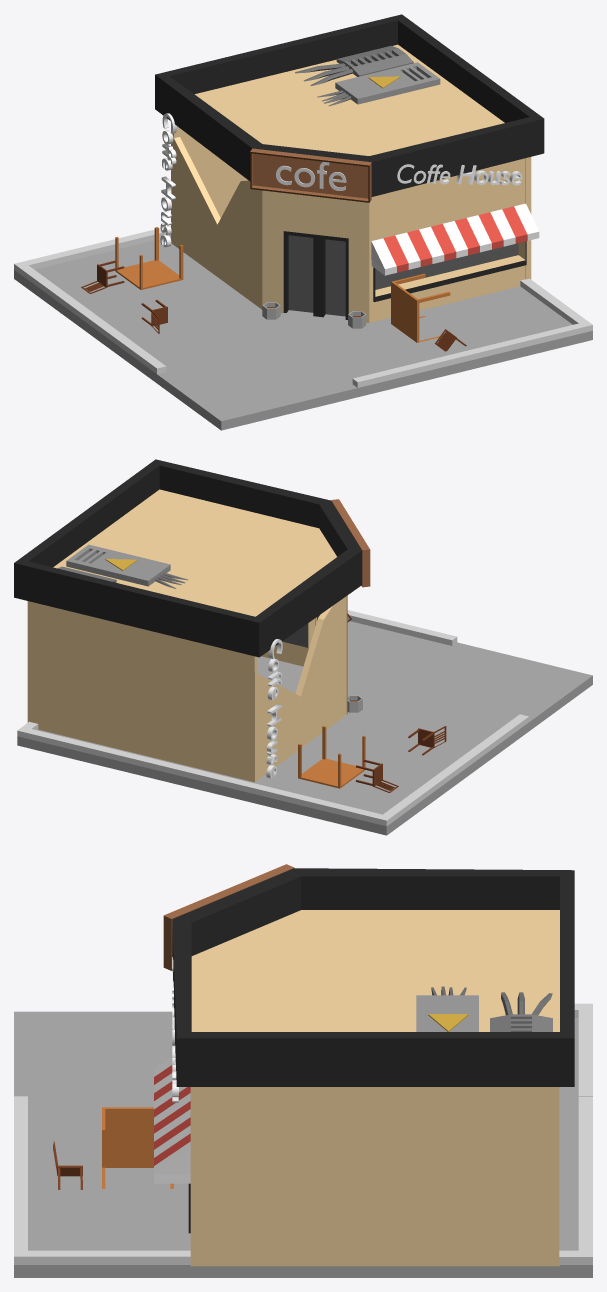
The picture shows the model from 3 angles, top to bottom: view 1: azimuth 30°, elevation 25°; view 2: azimuth 150°, elevation 25°; view 3: azimuth 270°, elevation 25°; orthographic projection. The views are drawn at different scales.
Parts seen in each view (by area): view 1: Cube, Plane.007, Plane, Plane.001, Cube.035, Cube.008, Plane.004, Plane.003, Plane.006, Cube.007, Text.001, Text.002 (+2 smaller); view 2: Cube, Plane.007, Plane.004, Plane, Cube.008, Plane.003, Text.001, Cube.035; view 3: Cube, Plane.005, Plane.007, Plane.001, Plane.006, Cube.008, Plane.004, Cube.035, Cube.007.
Part boxes in pixels (<box>): Cube: <box>155,14,544,322</box>; Plane.007: <box>14,225,592,430</box>; Plane: <box>171,136,262,309</box>; Plane.001: <box>371,203,539,275</box>; Cube.035: <box>250,148,371,202</box>; Cube.008: <box>335,62,440,104</box>; Plane.004: <box>171,123,246,240</box>; Plane.003: <box>115,227,183,289</box>; Plane.006: <box>391,273,450,342</box>; Cube.007: <box>336,45,413,76</box>; Text.001: <box>160,113,176,247</box>; Text.002: <box>397,164,522,185</box>; Cube: <box>14,459,362,714</box>; Plane.007: <box>17,610,592,835</box>; Plane.004: <box>27,601,257,782</box>; Plane: <box>254,596,346,781</box>; Cube.008: <box>66,544,170,586</box>; Plane.003: <box>298,726,365,788</box>; Text.001: <box>266,639,282,778</box>; Cube.035: <box>331,499,370,587</box>; Cube: <box>172,868,574,1265</box>; Plane.005: <box>190,1087,550,1266</box>; Plane.007: <box>14,1003,592,1277</box>; Plane.001: <box>154,1057,190,1183</box>; Plane.006: <box>102,1107,173,1188</box>; Cube.008: <box>416,995,478,1031</box>; Plane.004: <box>551,1087,559,1266</box>; Cube.035: <box>163,864,294,970</box>; Cube.007: <box>490,1014,552,1031</box>.
Bounding box in the file's own units: 835 × 370 × 786.
